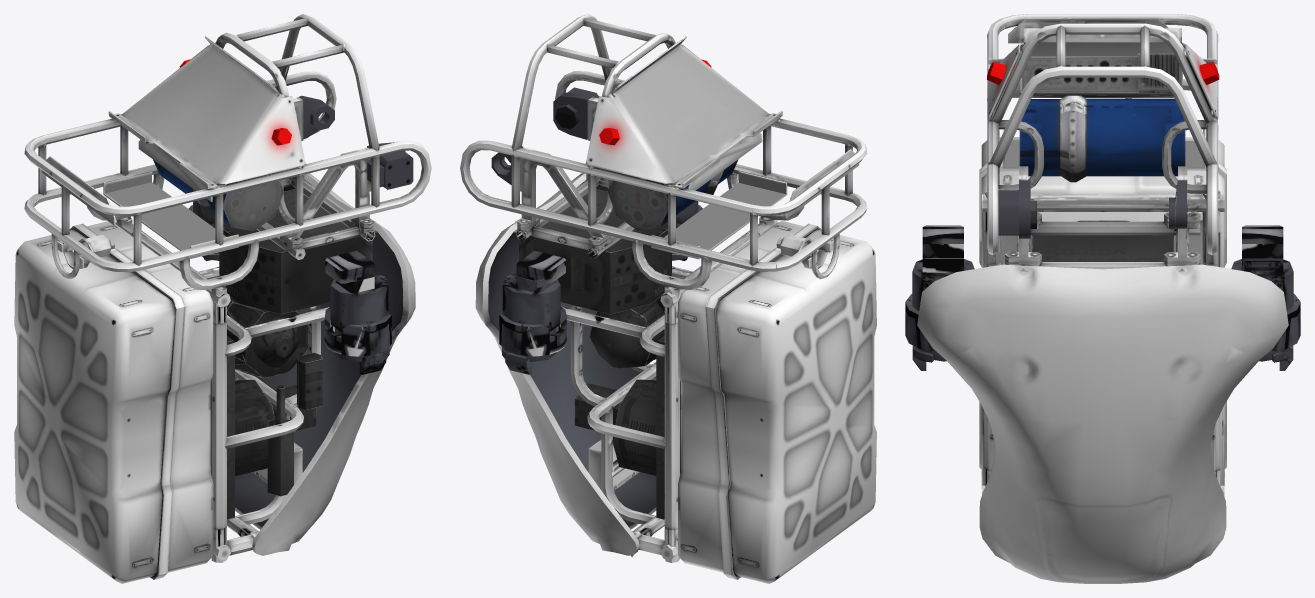
Rendered from utorso.dae.
3 renders of one model, left to right at view 1: azimuth 30°, elevation 25°; view 2: azimuth 150°, elevation 25°; view 3: azimuth 270°, elevation 25°, orthographic. The views are drawn at different scales.
Parts seen in each view (by area): view 1: utorso; view 2: utorso; view 3: utorso.
Part boxes in pixels (bbox=[...]): utorso: bbox=[14, 14, 431, 583]; utorso: bbox=[460, 14, 876, 583]; utorso: bbox=[905, 14, 1300, 583].
Bounding box in the file's own units: 0.6238 × 0.5601 × 0.8599.
3 materials, 3 textured.
